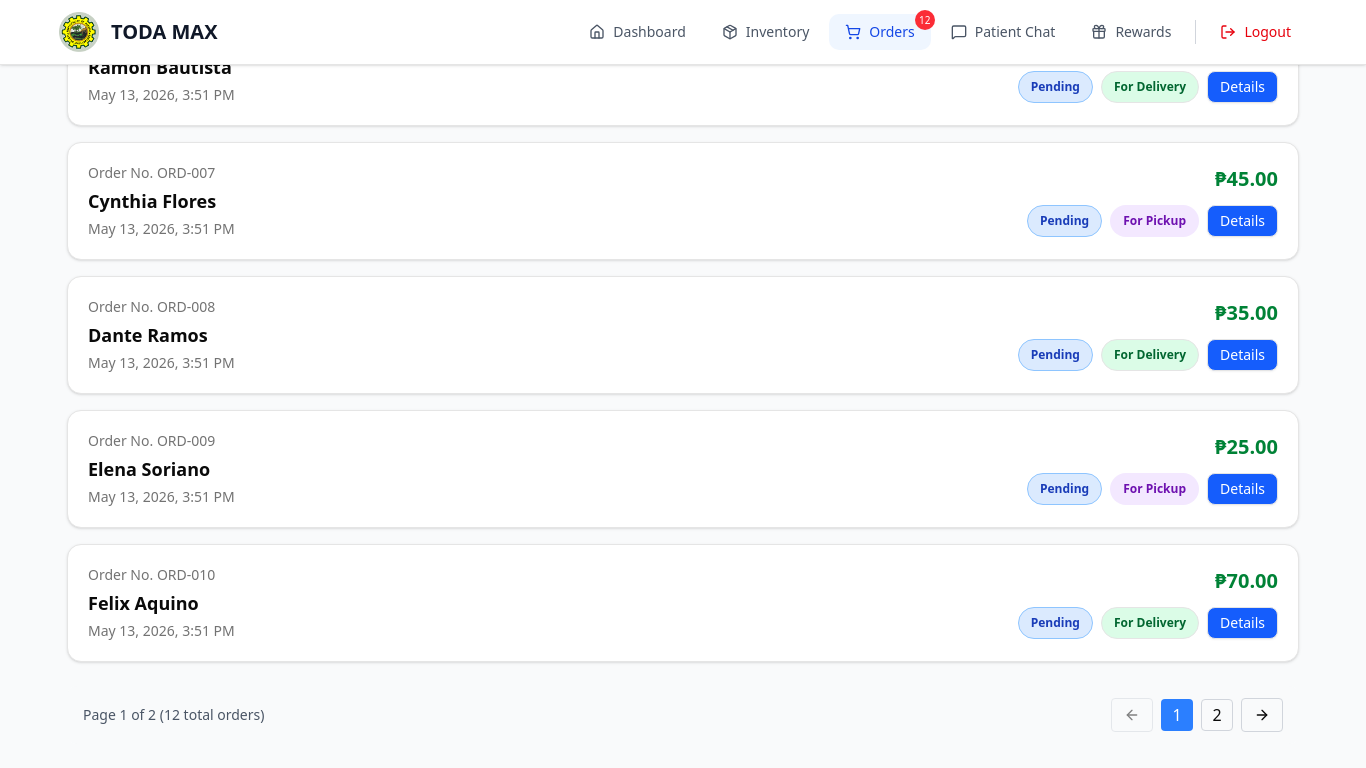
Scenario: Ordering Page › should handle pagination
(page scrolled)
Click the button "2": (1217, 715) [1201,699,1233,731]
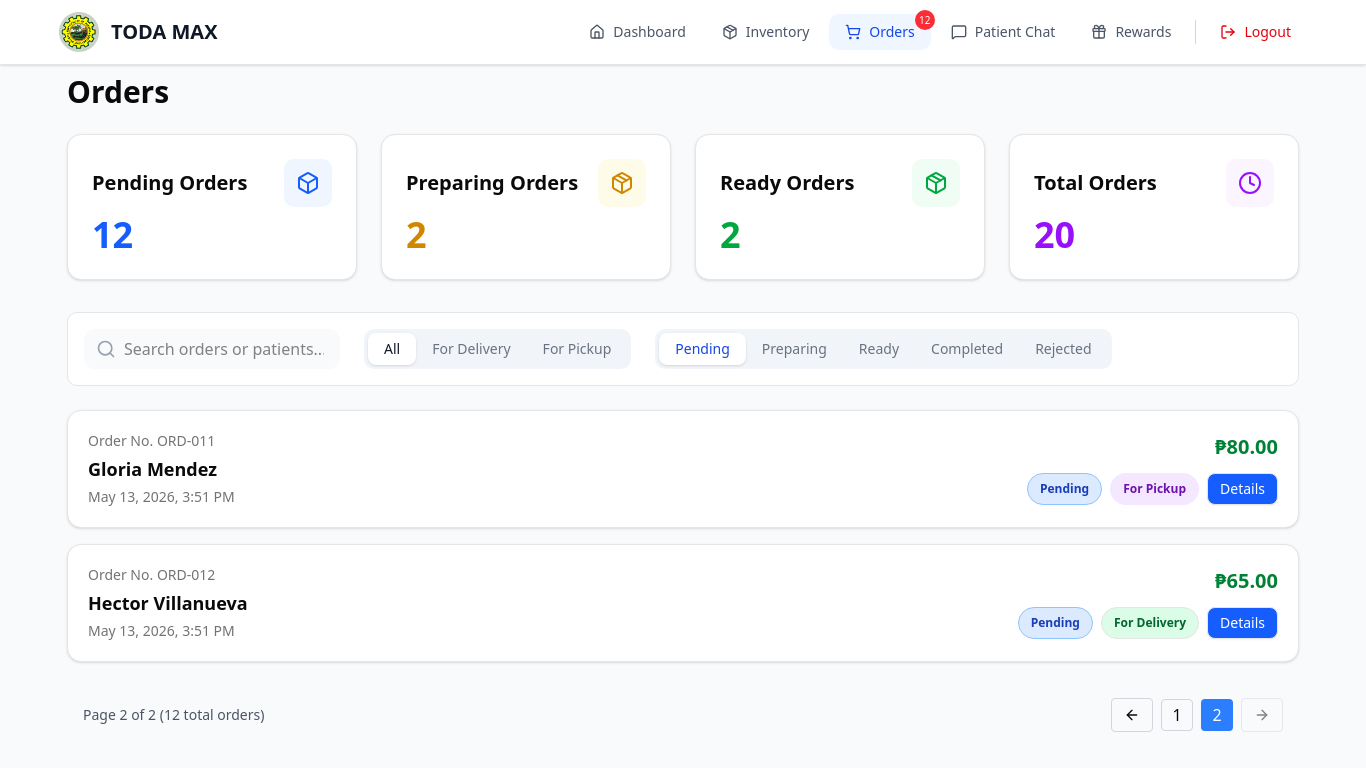
Expected: the text "Page 2" is shown, [83,705,265,725]
